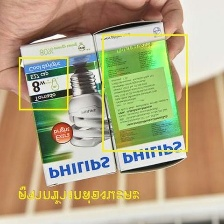carton: (17, 26, 121, 191), (89, 15, 188, 177)
